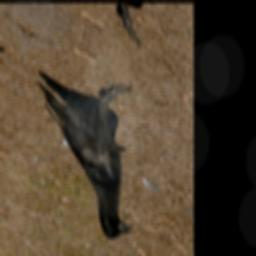Crow: (16, 34, 155, 251)
